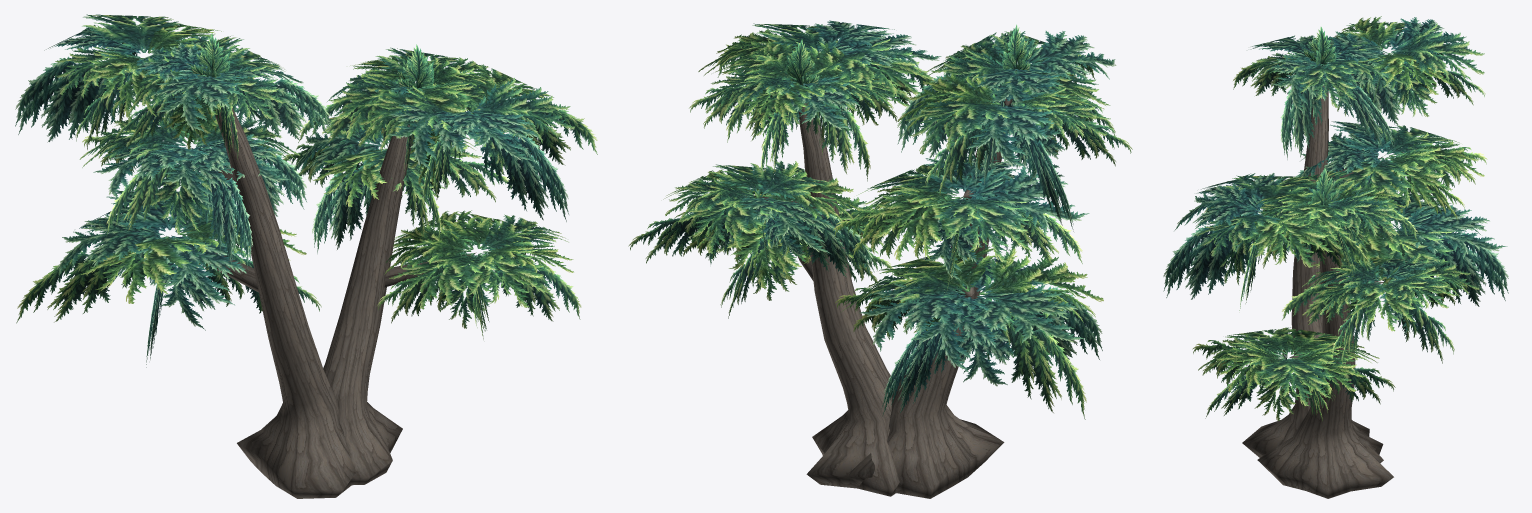
The model's file is tree_root_twin.glb.
The picture shows the model from 3 angles, left to right: view 1: azimuth 30°, elevation 25°; view 2: azimuth 150°, elevation 25°; view 3: azimuth 270°, elevation 25°; orthographic projection. The views are drawn at different scales.
Parts seen in each view (by area): view 1: tree_root_twin; view 2: tree_root_twin; view 3: tree_root_twin.
Boxes of the visible parts, <box> form: tree_root_twin: <box>15,14,597,498</box>; tree_root_twin: <box>628,20,1132,498</box>; tree_root_twin: <box>1163,16,1508,498</box>.
Bounding box in the file's own units: 20.75 × 19.03 × 15.5.
Materials: 2 (2 with a texture image).
